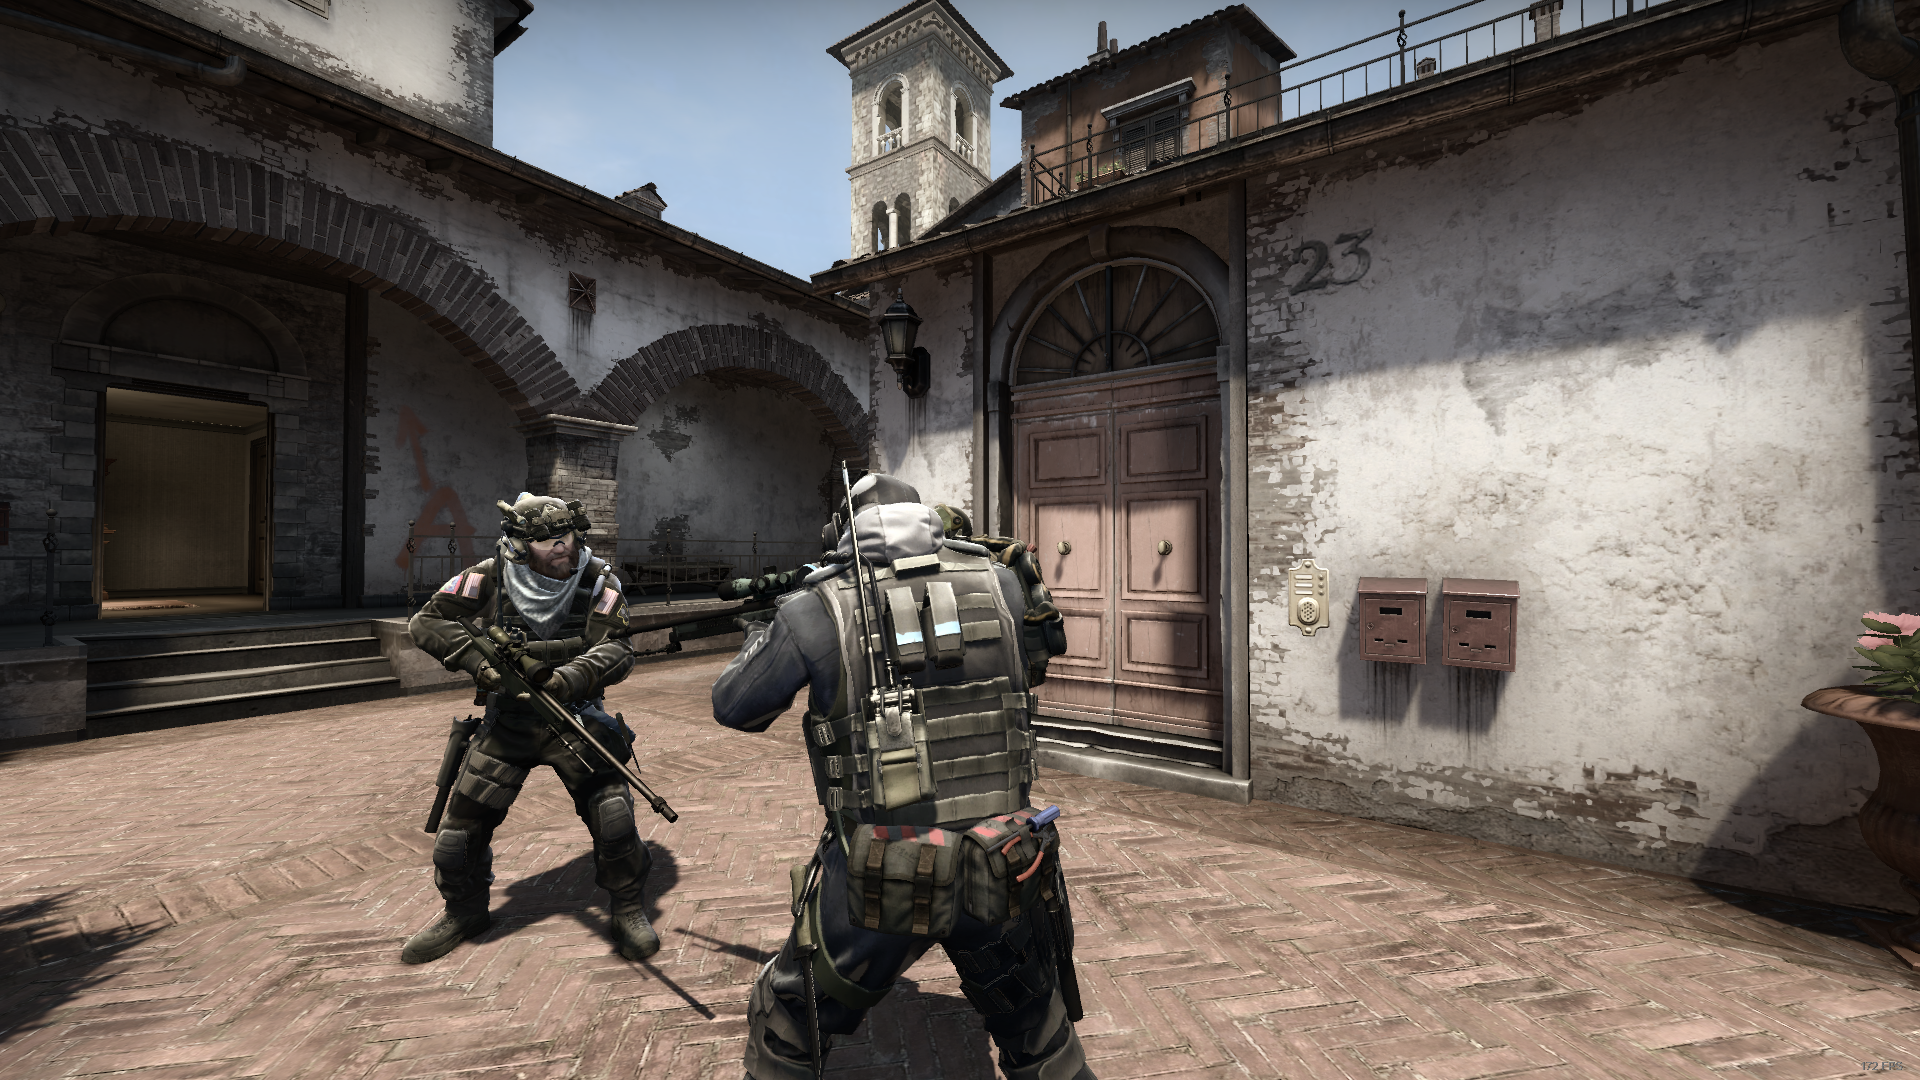ct: (715, 471, 1098, 1080)
